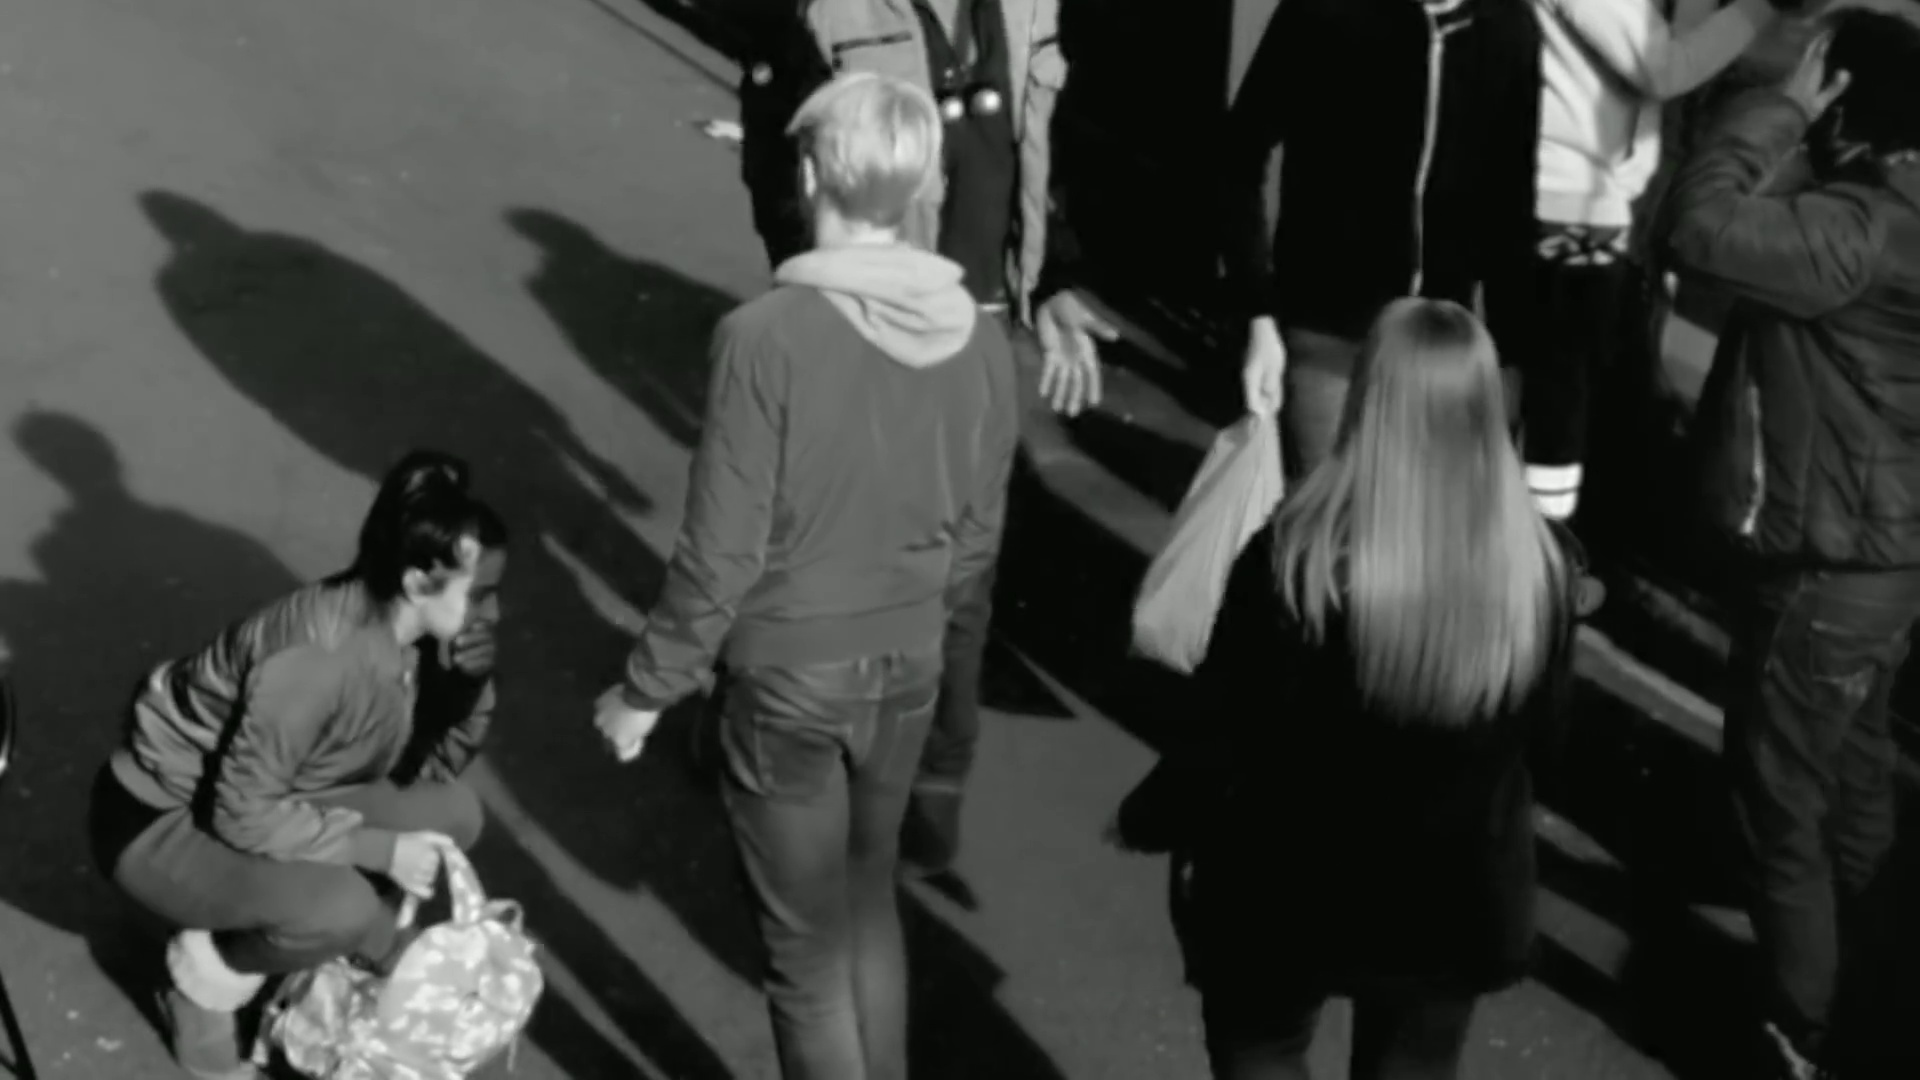face: (421, 527, 512, 653)
